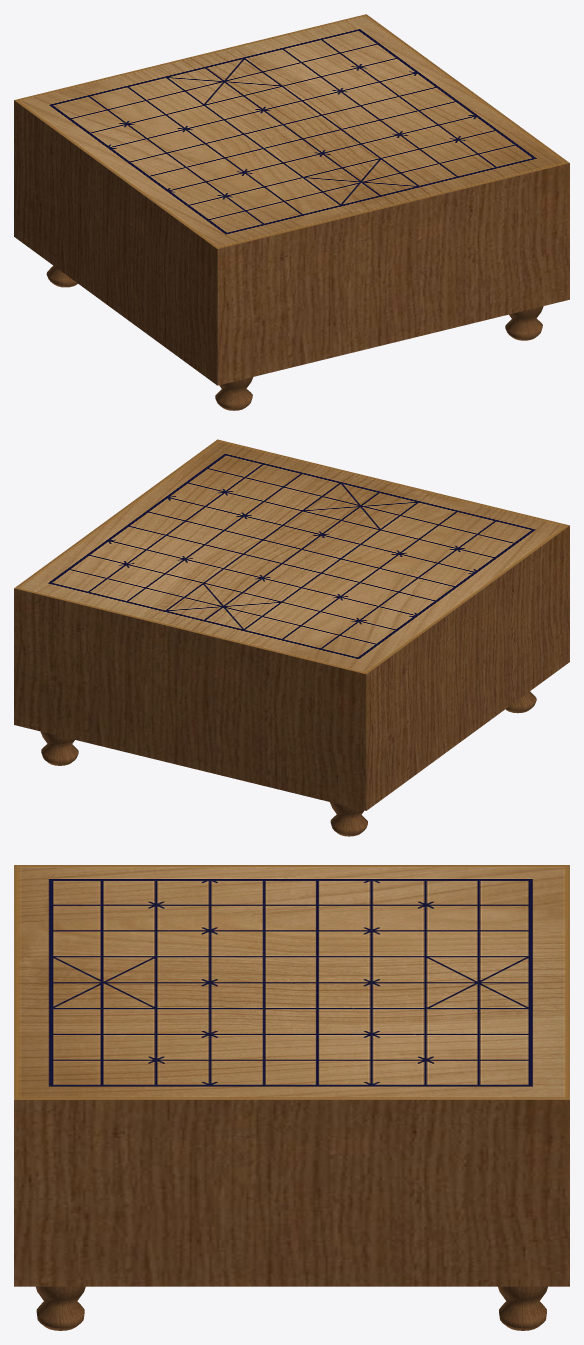
File: janghipan.FBX
The picture shows the model from 3 angles, top to bottom: view 1: azimuth 30°, elevation 25°; view 2: azimuth 150°, elevation 25°; view 3: azimuth 270°, elevation 25°; orthographic projection. The views are drawn at different scales.
Visible parts, largest first — view 1: Box001, Cylinder004, Cylinder003; view 2: Box001, Cylinder002, Cylinder001; view 3: Box001, Cylinder004, Cylinder001.
Boxes of the visible parts, x1,y1,x2,y2 form: Box001: (14, 14, 569, 385); Cylinder004: (505, 306, 543, 340); Cylinder003: (215, 377, 253, 410); Box001: (14, 439, 569, 810); Cylinder002: (330, 802, 367, 836); Cylinder001: (40, 731, 78, 765); Box001: (14, 865, 569, 1286); Cylinder004: (36, 1286, 85, 1330); Cylinder001: (498, 1286, 547, 1330).
Size of the model in its own units: 180 by 86.73 by 180.
Materials: 3 (3 with a texture image).
